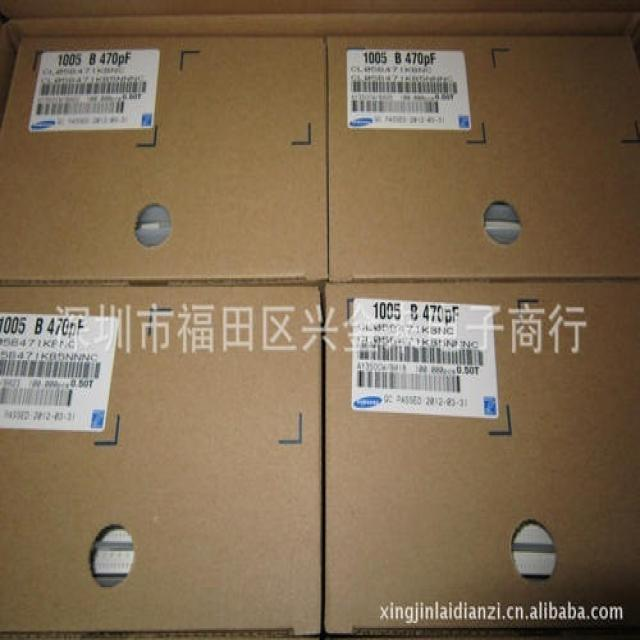box: (321, 282, 639, 636), (0, 37, 328, 284), (326, 32, 639, 284)
